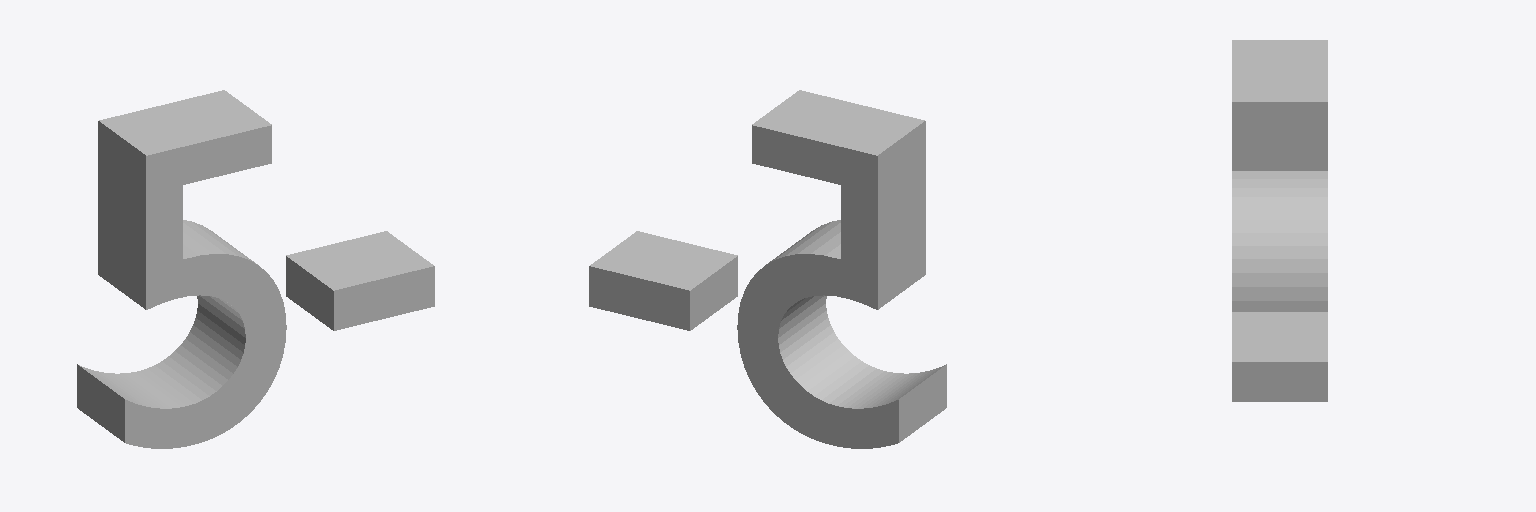
File: five.obj
3 renders of one model, left to right at view 1: azimuth 30°, elevation 25°; view 2: azimuth 150°, elevation 25°; view 3: azimuth 270°, elevation 25°, orthographic.
Visible parts, largest first — view 1: Blue_Team__Text; view 2: Blue_Team__Text; view 3: Blue_Team__Text.
Boxes of the visible parts, <box> form: Blue_Team__Text: <box>77,90,434,448</box>; Blue_Team__Text: <box>589,90,946,448</box>; Blue_Team__Text: <box>1232,40,1327,401</box>.
Bounding box in the file's own units: 0.7442 × 0.691 × 0.2.